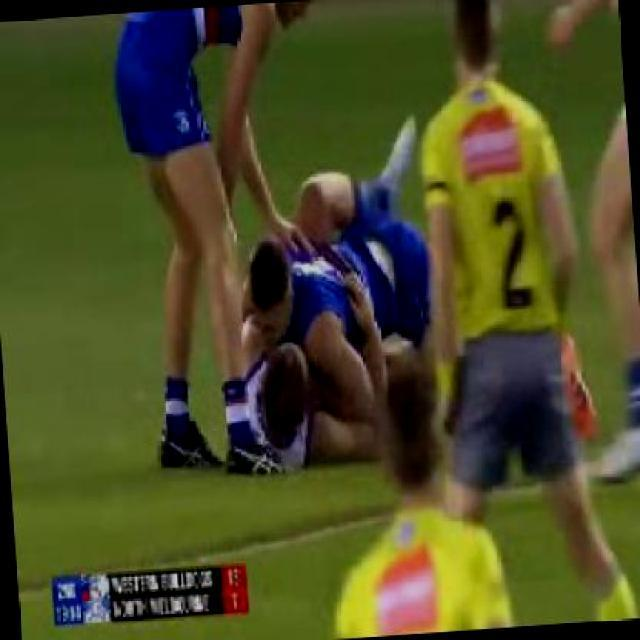fight: (229, 167, 440, 478)
